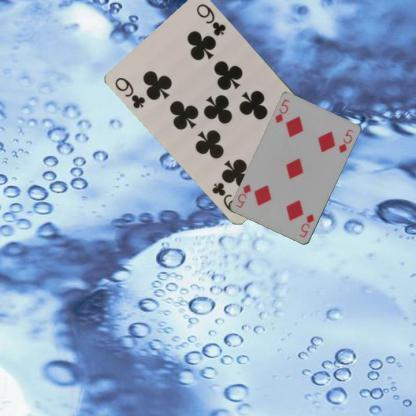5d: (272, 96, 292, 125), (297, 211, 316, 238)
9c: (112, 74, 148, 110)
